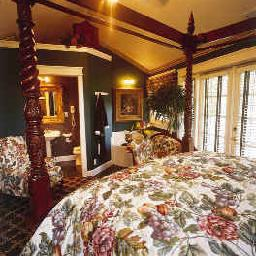Cama: (42, 155, 254, 255)
